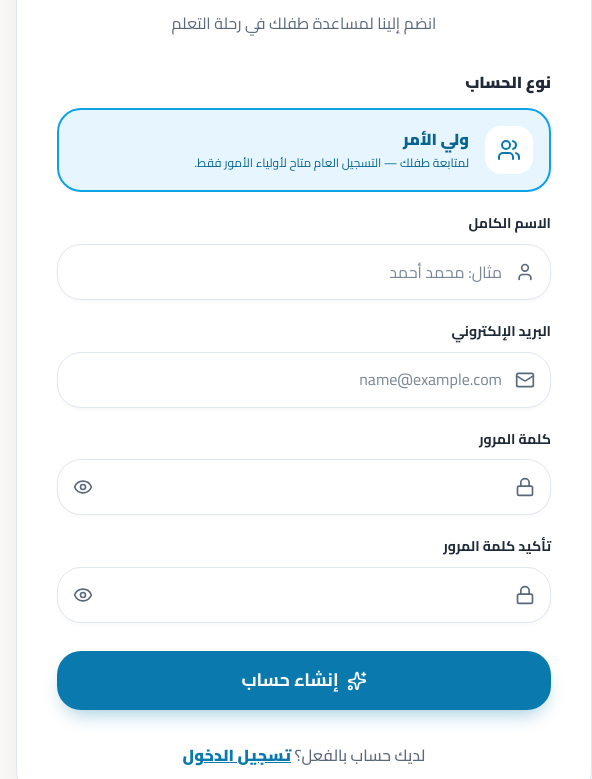
RegisterPage › shows required errors when submitted empty
(page scrolled)
Click the button "إنشاء حساب". click: (304, 681)
box: [57,651,551,710]
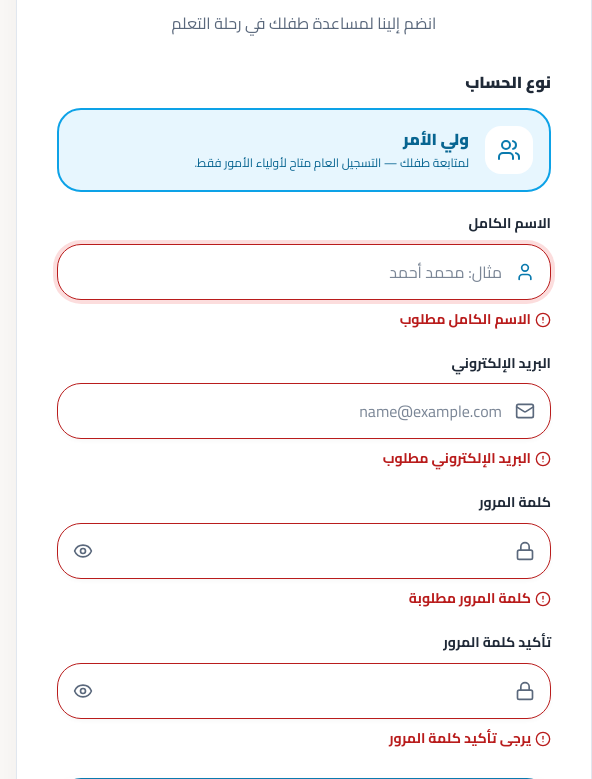
Expected: the text "الاسم الكامل مطلوب" is shown, [400,306,551,332]
Expected: the text "البريد الإلكتروني مطلوب" is shown, [383,446,551,472]
Expected: the text "يرجى تأكيد كلمة المرور" is shown, [389,725,551,751]
